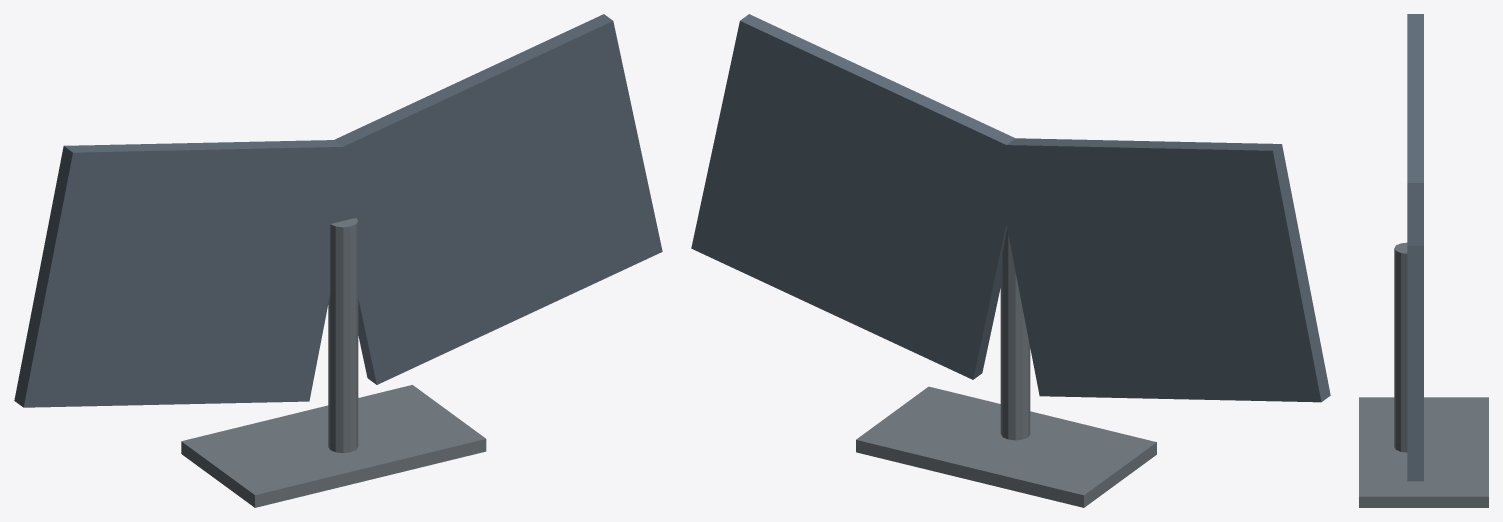
File: ai.tech-monitor.glb
3 renders of one model, left to right at view 1: azimuth 30°, elevation 25°; view 2: azimuth 150°, elevation 25°; view 3: azimuth 270°, elevation 25°, orthographic. The views are drawn at different scales.
Parts seen in each view (by area): view 1: Hero_Asset; view 2: Hero_Asset; view 3: Hero_Asset.
Boxes of the visible parts, <box> form: Hero_Asset: <box>14,14,662,507</box>; Hero_Asset: <box>691,14,1330,507</box>; Hero_Asset: <box>1359,14,1488,507</box>.
Size of the model in its own units: 0.8071 by 0.45 by 0.1615.
